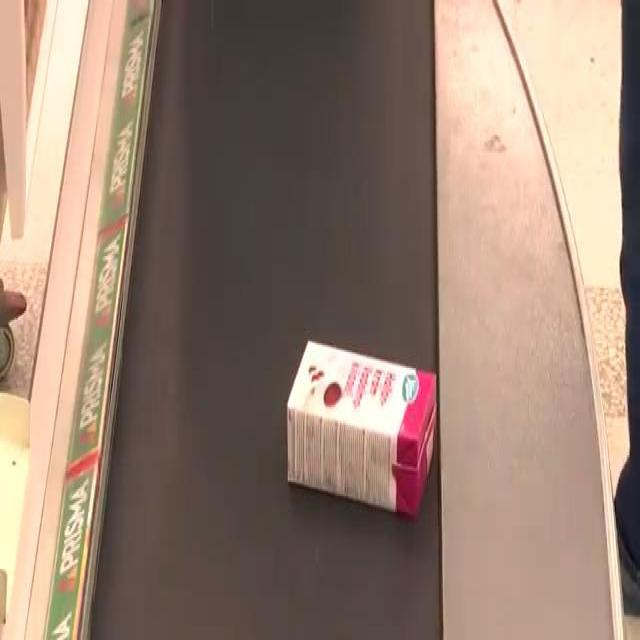food-box: (284, 346, 444, 484)
